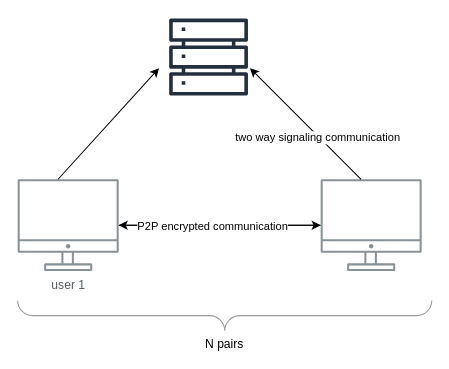
This 449x369 diagram has some shape labels left out. Each missing label, with the box of its shape:
signaling server: (169, 17, 247, 96)
user 2: (320, 179, 421, 271)
